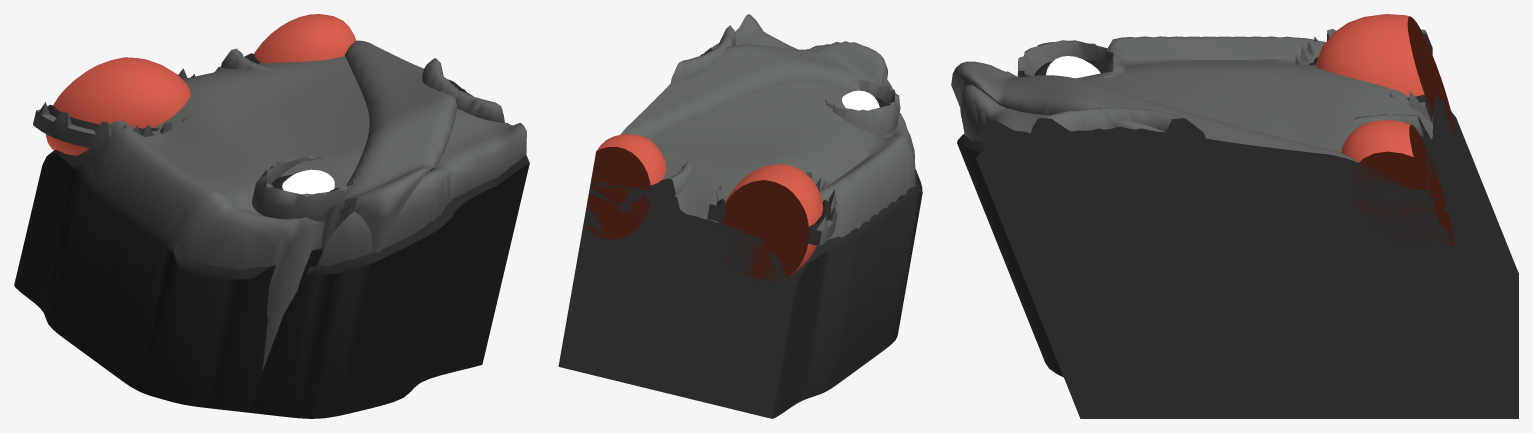
File: dread_shoulder_l_115.glb
3 views of the same model, side by side, from view 1: azimuth 30°, elevation 25°; view 2: azimuth 150°, elevation 25°; view 3: azimuth 270°, elevation 25° (orthographic). The views are drawn at different scales.
Parts seen in each view (by area): view 1: dread_shoulder_l_115; view 2: dread_shoulder_l_115; view 3: dread_shoulder_l_115.
Boxes of the visible parts, bbox=[...] form: dread_shoulder_l_115: bbox=[14, 14, 529, 418]; dread_shoulder_l_115: bbox=[558, 14, 922, 418]; dread_shoulder_l_115: bbox=[951, 14, 1518, 418].
Size of the model in its own units: 20.27 by 18.15 by 31.04.
